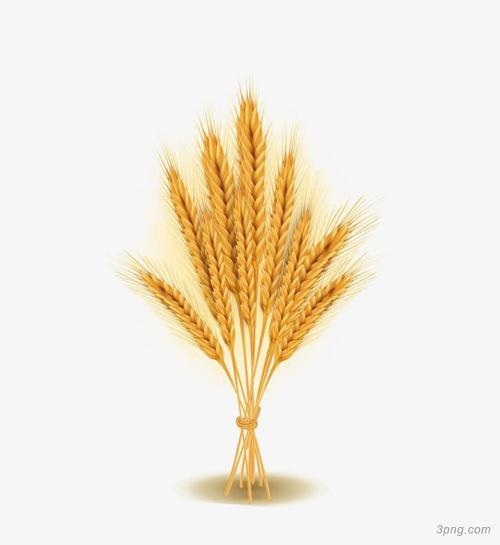wheat: (163, 155, 234, 357), (277, 205, 368, 353), (116, 255, 225, 369), (198, 113, 248, 333), (225, 93, 266, 335), (255, 140, 297, 327), (269, 198, 313, 337)
